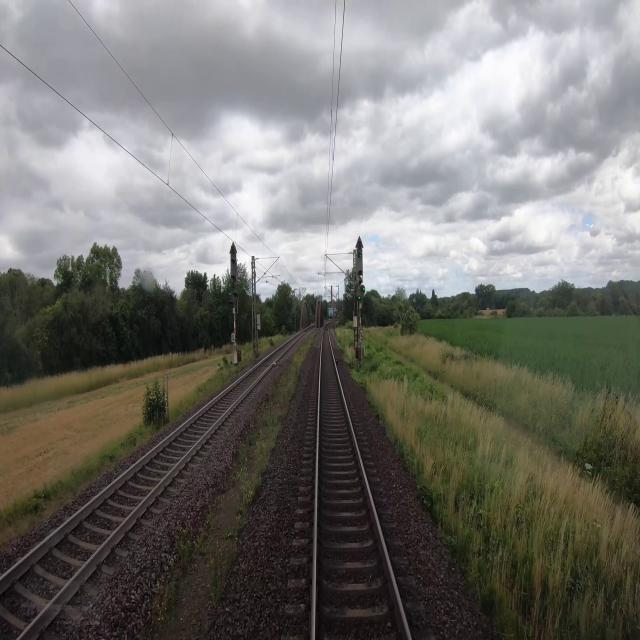Plant: (248, 335, 316, 473), (150, 527, 195, 635), (209, 532, 238, 607), (234, 473, 261, 534), (197, 495, 224, 548), (238, 443, 249, 468), (229, 463, 240, 487), (202, 613, 213, 632)
